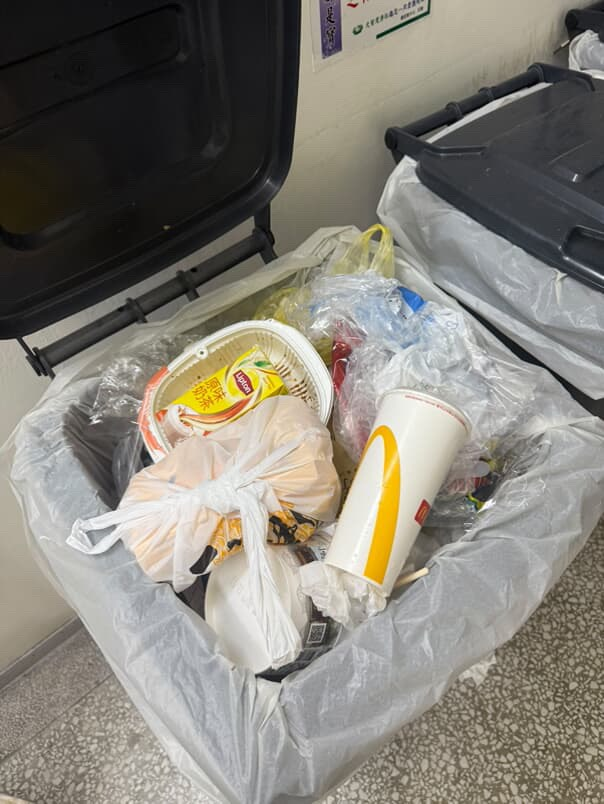overflow_bin: (27, 219, 590, 804)
